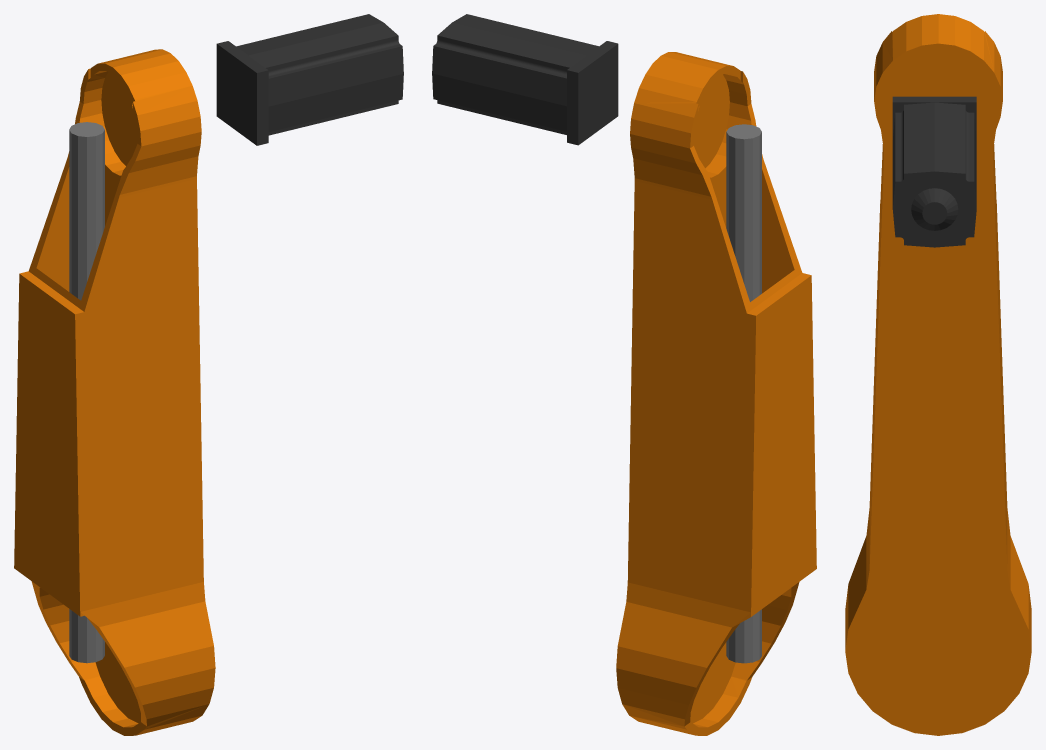
The picture shows the model from 3 angles, left to right: view 1: azimuth 30°, elevation 25°; view 2: azimuth 150°, elevation 25°; view 3: azimuth 270°, elevation 25°; orthographic projection. The views are drawn at different scales.
Visible parts, largest first — view 1: arm_mesh_, motor_mesh_, rod_mesh; view 2: arm_mesh_, motor_mesh_, rod_mesh; view 3: arm_mesh_, motor_mesh_.
Boxes of the visible parts, x1=… form: arm_mesh_: x1=14, y1=49, x2=215, y2=735; motor_mesh_: x1=216, y1=14, x2=403, y2=145; rod_mesh: x1=69, y1=122, x2=104, y2=663; arm_mesh_: x1=616, y1=52, x2=816, y2=735; motor_mesh_: x1=432, y1=14, x2=618, y2=145; rod_mesh: x1=726, y1=124, x2=761, y2=663; arm_mesh_: x1=845, y1=14, x2=1031, y2=735; motor_mesh_: x1=892, y1=96, x2=976, y2=247.
Size of the model in its own units: 0.443 by 0.819 by 0.2.
